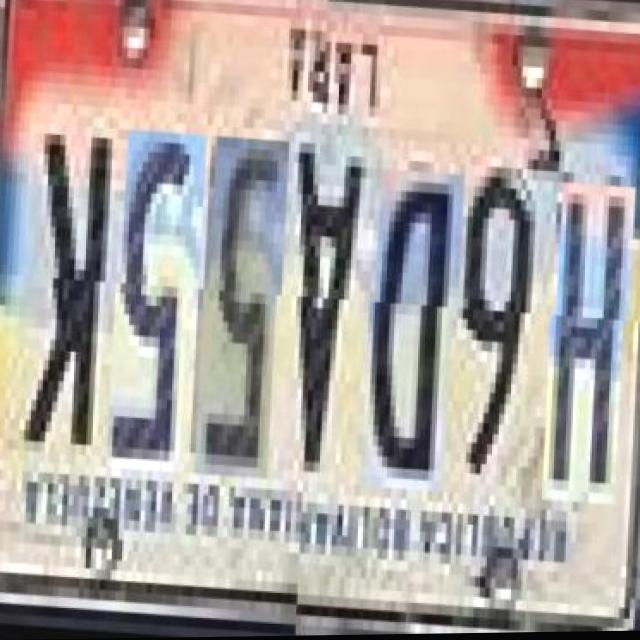5: (104, 139, 195, 483), (192, 144, 278, 488)
d: (359, 164, 455, 489)
h: (540, 175, 626, 497)
p: (359, 164, 455, 489)
t: (104, 139, 195, 483)
v: (192, 144, 278, 488)
